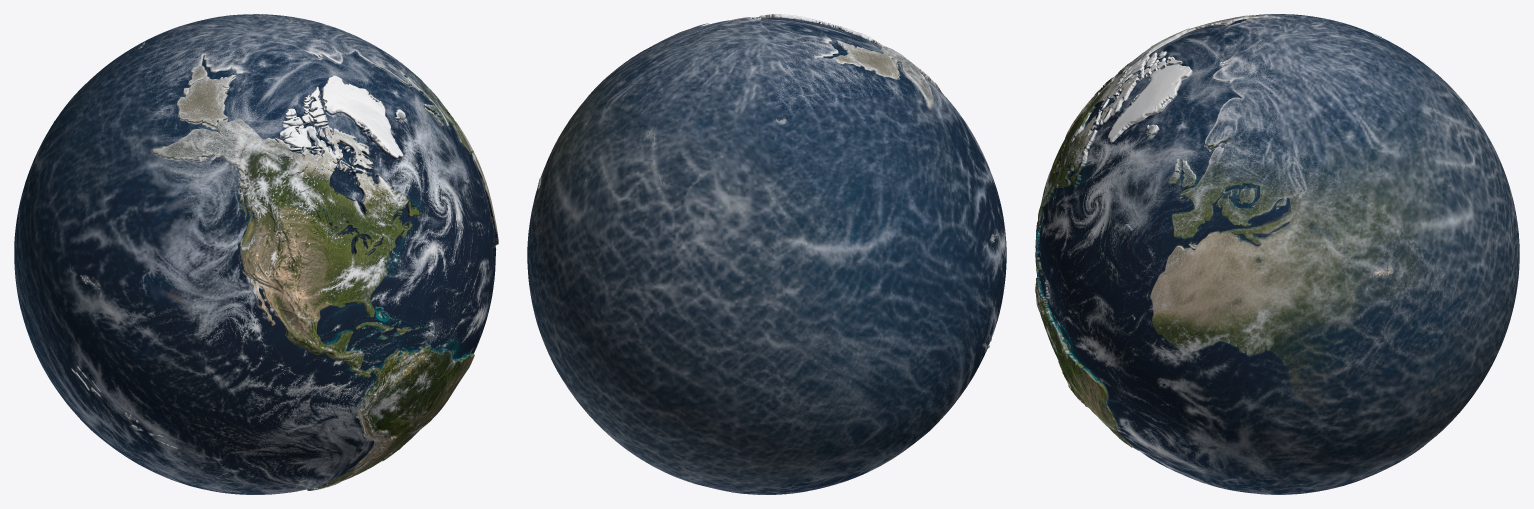
Rendered from Earth3d-model3.glb.
The picture shows the model from 3 angles, left to right: view 1: azimuth 30°, elevation 25°; view 2: azimuth 150°, elevation 25°; view 3: azimuth 270°, elevation 25°; orthographic projection.
Bounding box in the file's own units: 1.9 × 1.9 × 1.9.
1 material, 1 textured.
